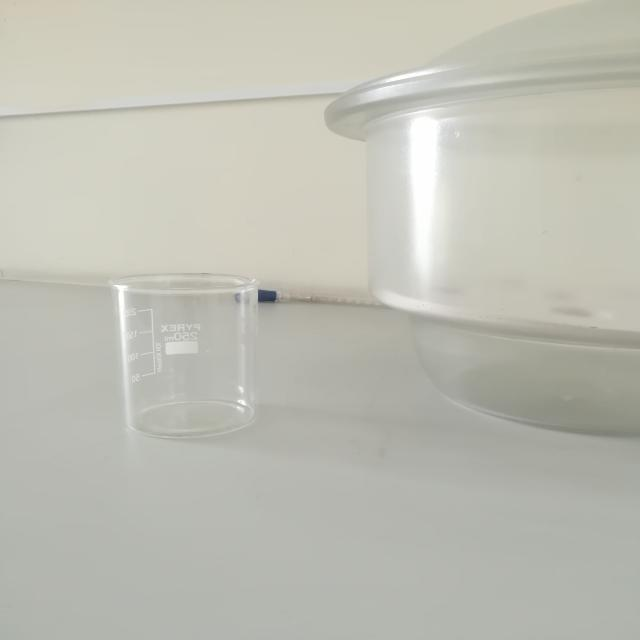Beaker: (76, 255, 314, 451)
